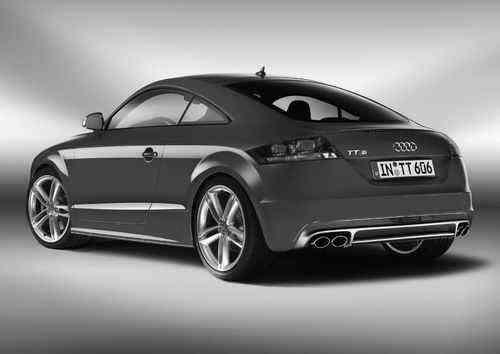car: (28, 67, 479, 284)
